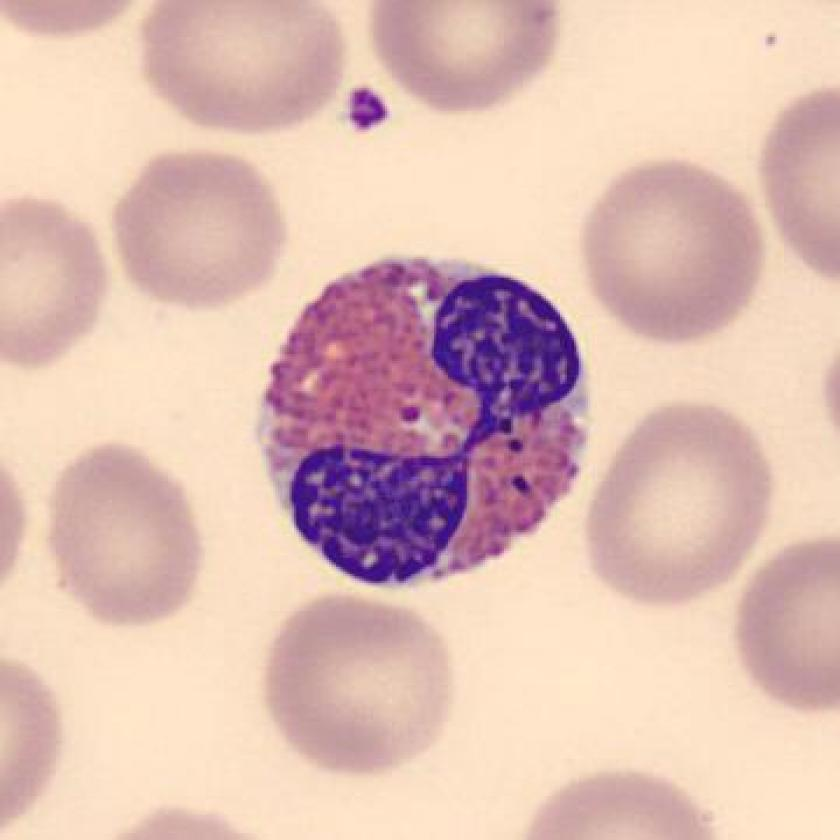eosinophil: (246, 242, 603, 598)
